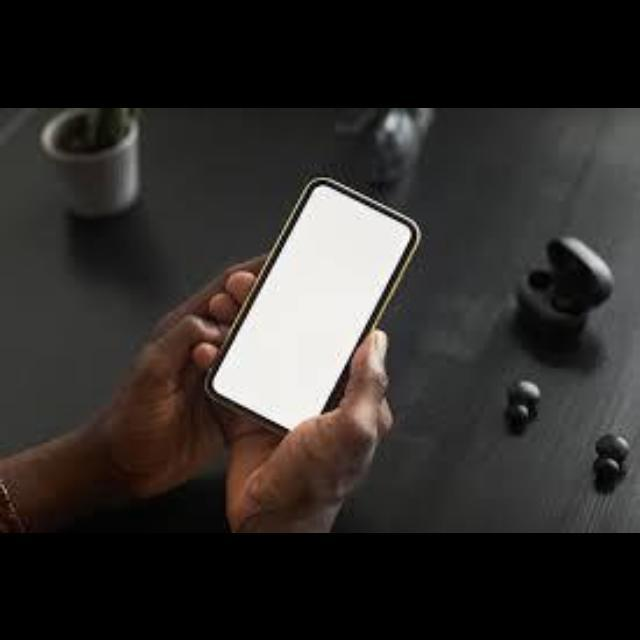Phone: (205, 175, 423, 435)
